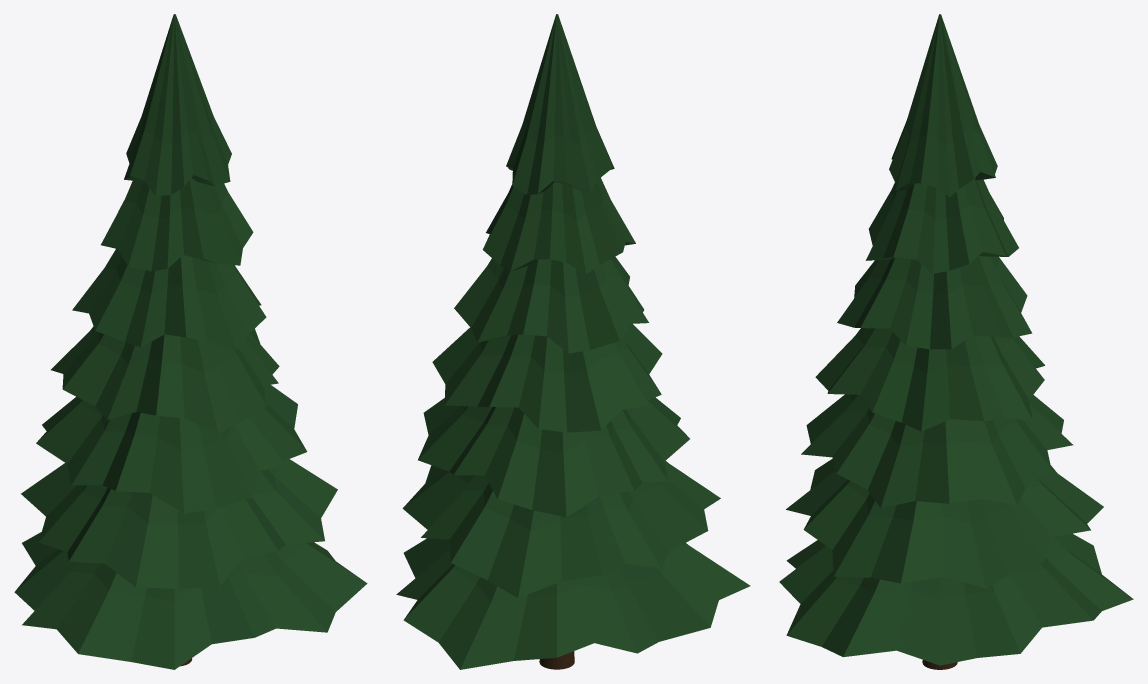
File: AlpinePine.obj
3 views of the same model, side by side, from view 1: azimuth 30°, elevation 25°; view 2: azimuth 150°, elevation 25°; view 3: azimuth 270°, elevation 25° (orthographic).
Parts seen in each view (by area): view 1: AlpinePine; view 2: AlpinePine; view 3: AlpinePine.
Boxes of the visible parts, x1,y1,x2,y2 form: AlpinePine: [14, 14, 367, 669]; AlpinePine: [396, 14, 750, 669]; AlpinePine: [779, 14, 1133, 669].
Bounding box in the file's own units: 443 × 892 × 443.
